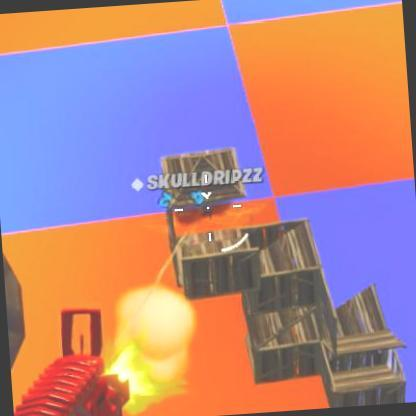person: (202, 204, 212, 222)
